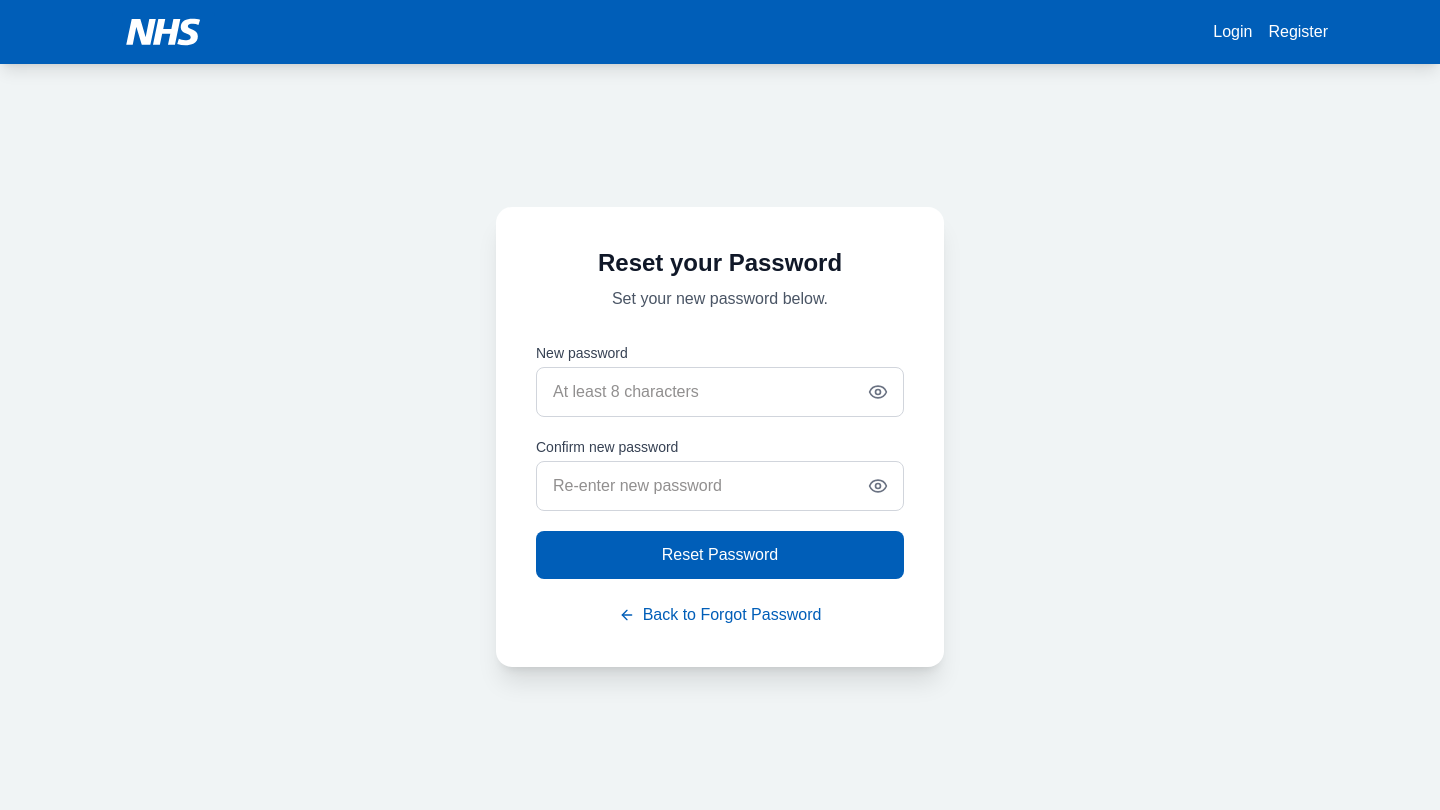
Test: ResetPasswordPage › shows API errors
Type "Password1!" into the password field labelled "New password" at [720, 392], box [536,367,904,417]
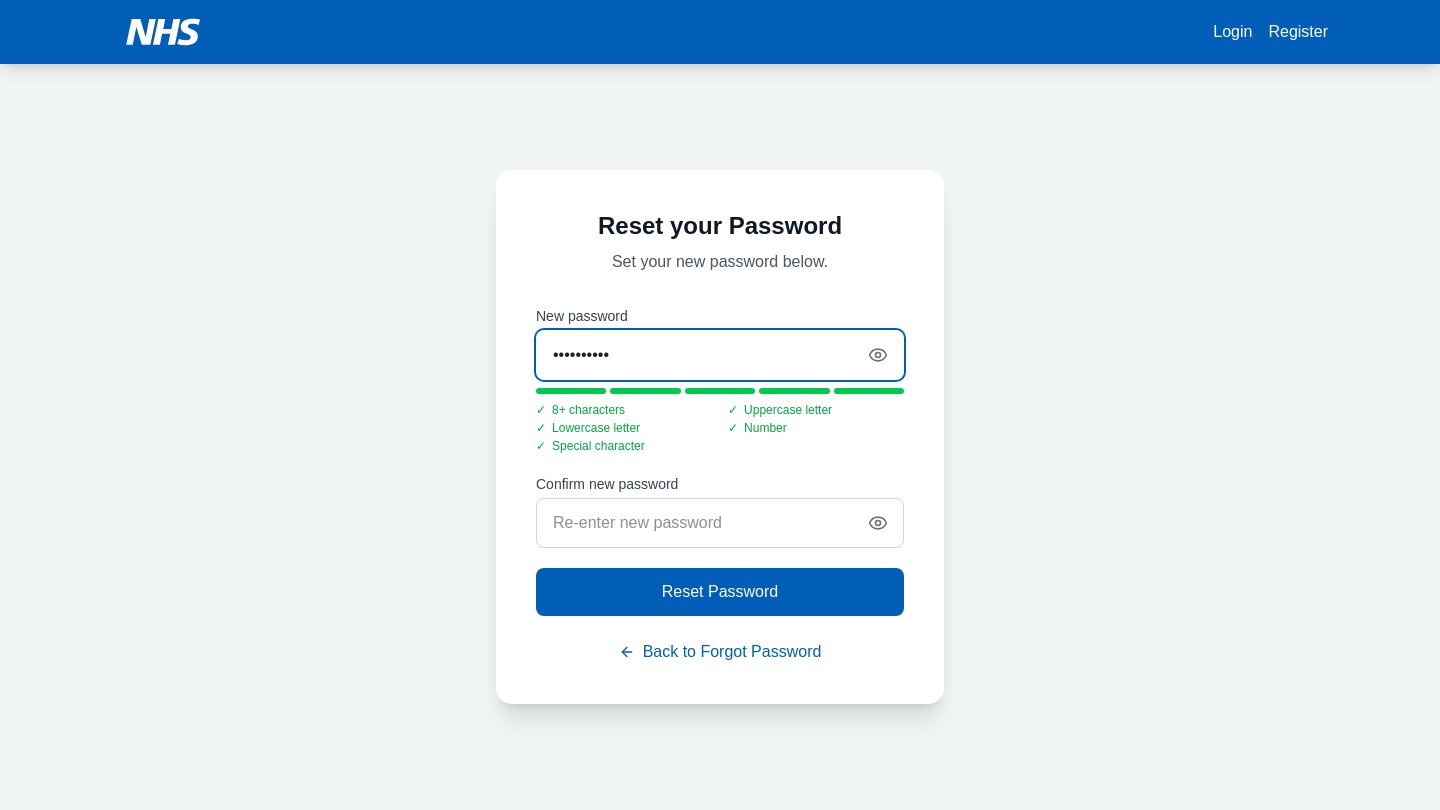
Type "Password1!" into the password field labelled "Confirm new password" at [720, 523], box [536,498,904,548]
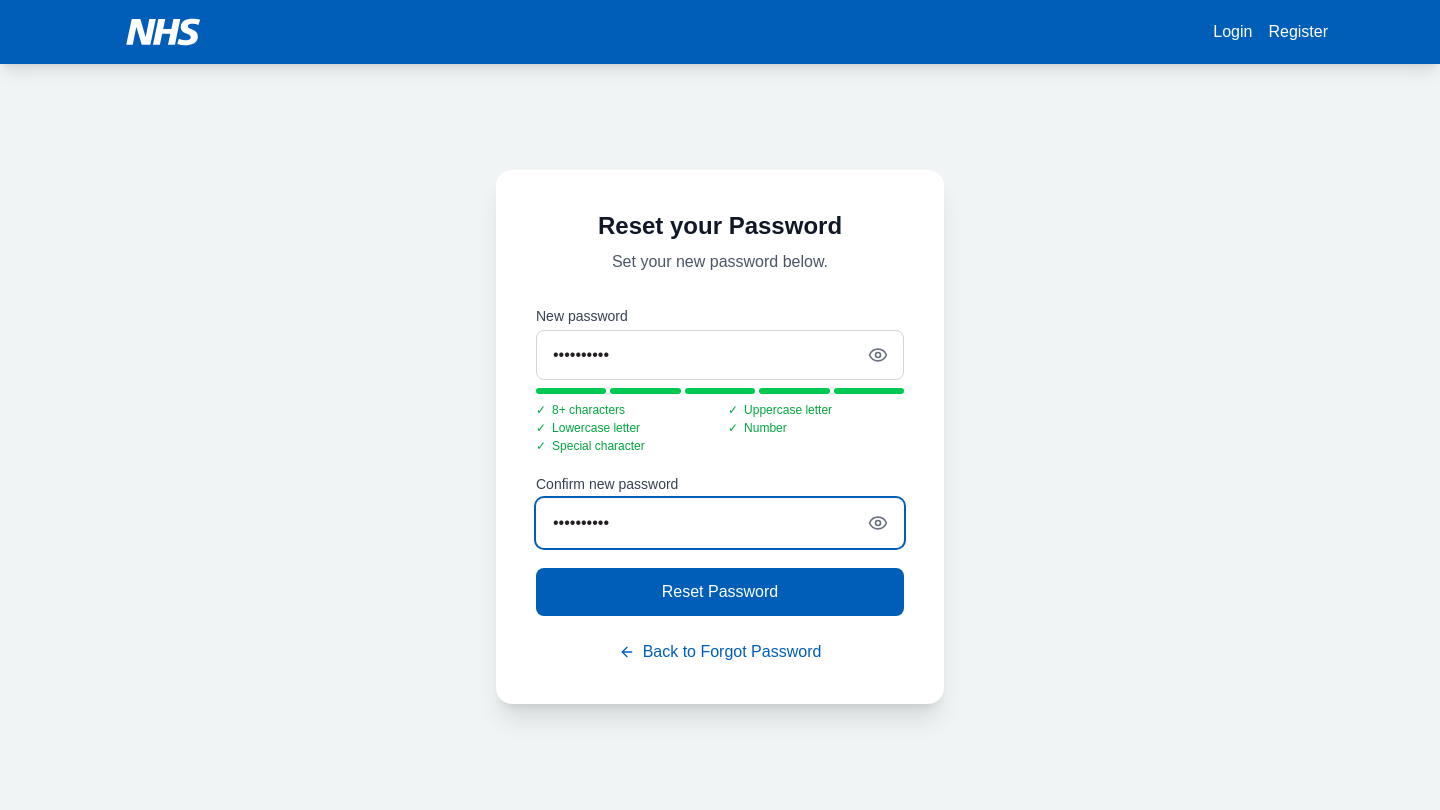
Click the button "Reset Password" at [720, 592], box [536,568,904,616]
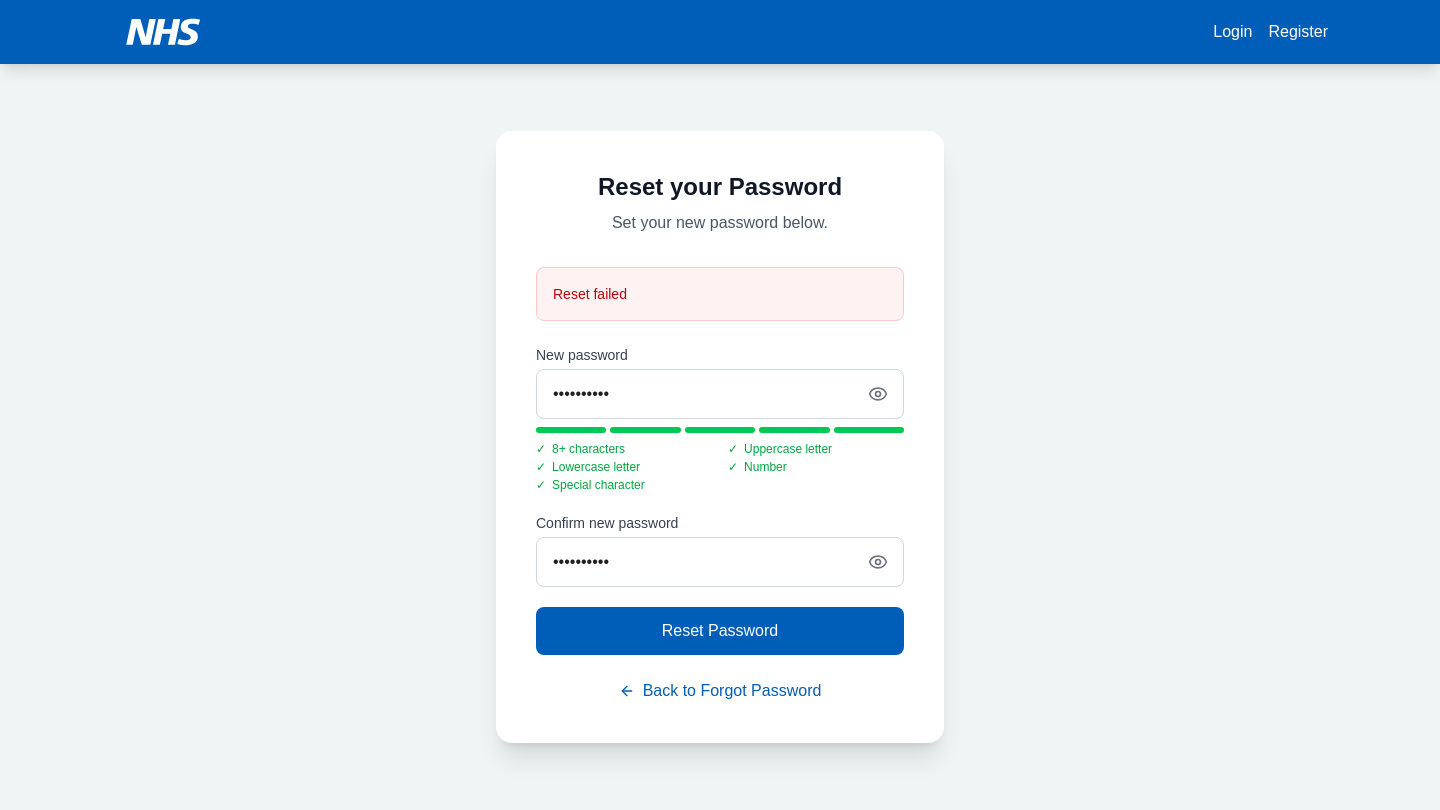
Check: the text "Reset failed" is shown, box [536,267,904,321]
